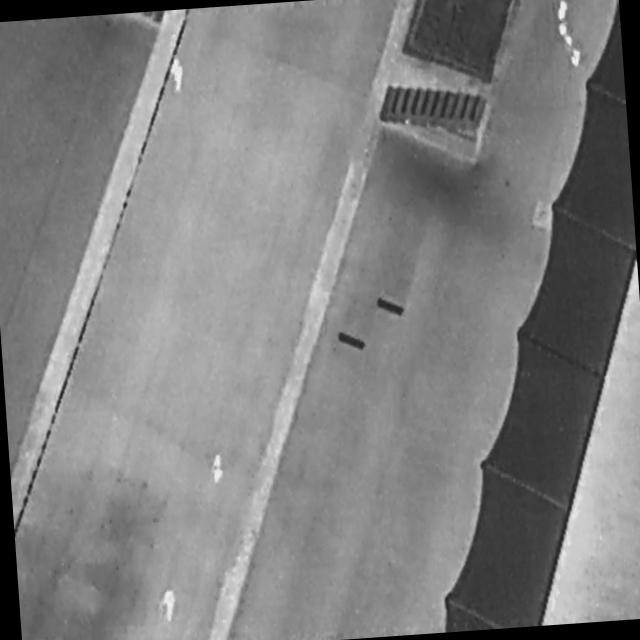person: (161, 588, 179, 623), (170, 57, 186, 94), (211, 453, 224, 486)
